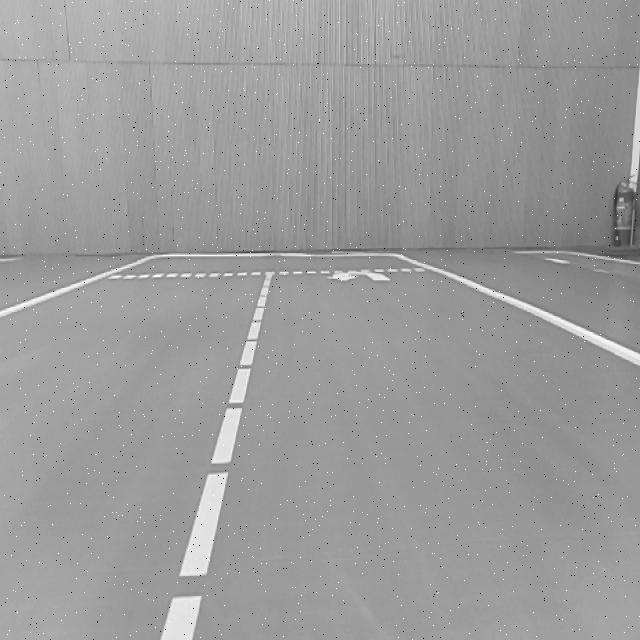left_lane: (161, 267, 275, 640)
right_lane: (401, 252, 640, 370), (0, 254, 152, 319)
